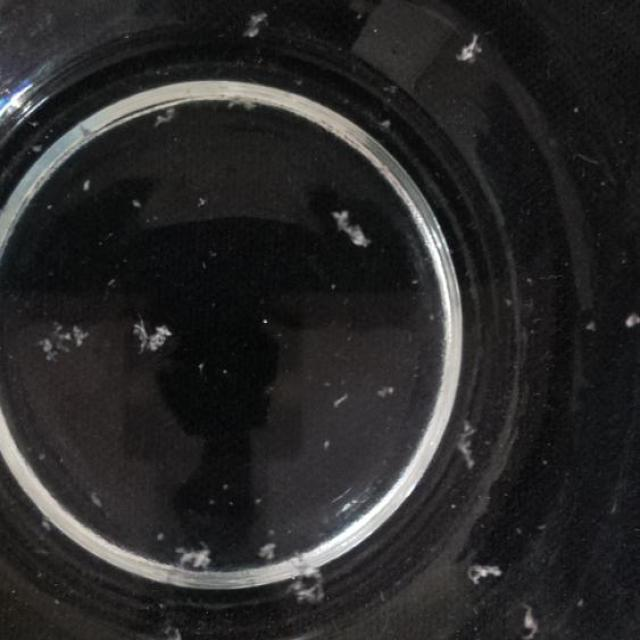fiber: (275, 556, 329, 608), (33, 314, 89, 364), (330, 199, 375, 253), (131, 309, 173, 366), (461, 550, 512, 586), (457, 414, 482, 474), (175, 541, 214, 578), (451, 28, 488, 66), (150, 95, 186, 130), (330, 381, 358, 421), (250, 533, 283, 566), (516, 604, 547, 639), (238, 14, 267, 46), (159, 614, 190, 639), (84, 483, 108, 515), (377, 374, 397, 404), (622, 303, 639, 337)
